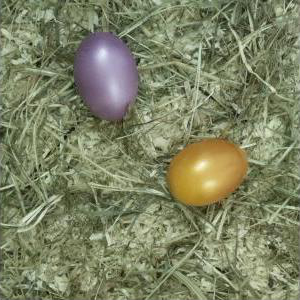egg: (74, 33, 139, 121), (166, 139, 249, 207)
